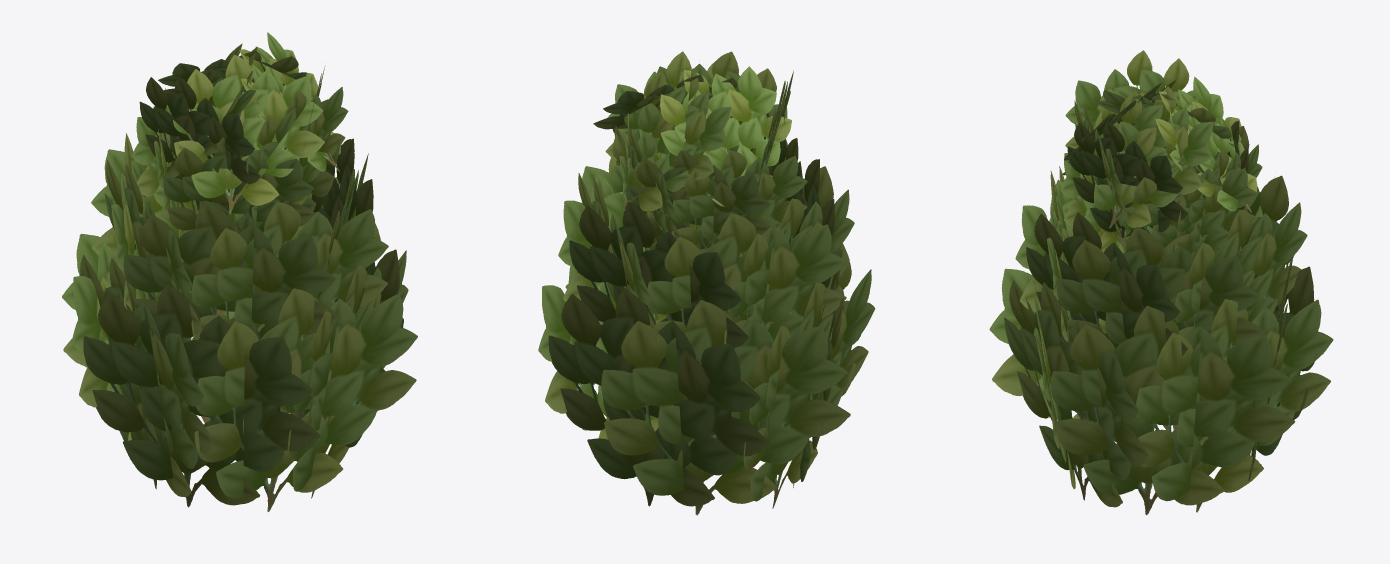
Rendered from dark-bush-68.glb.
The picture shows the model from 3 angles, left to right: view 1: azimuth 30°, elevation 25°; view 2: azimuth 150°, elevation 25°; view 3: azimuth 270°, elevation 25°; orthographic projection. The views are drawn at different scales.
Parts seen in each view (by area): view 1: dark_bush_68; view 2: dark_bush_68; view 3: dark_bush_68.
Boxes of the visible parts, x1,y1,x2,y2 form: dark_bush_68: (62,32,417,511); dark_bush_68: (538,51,875,515); dark_bush_68: (989,50,1333,515).
Size of the model in its own units: 10.69 by 12.96 by 10.68.
Materials: 1 (1 with a texture image).
